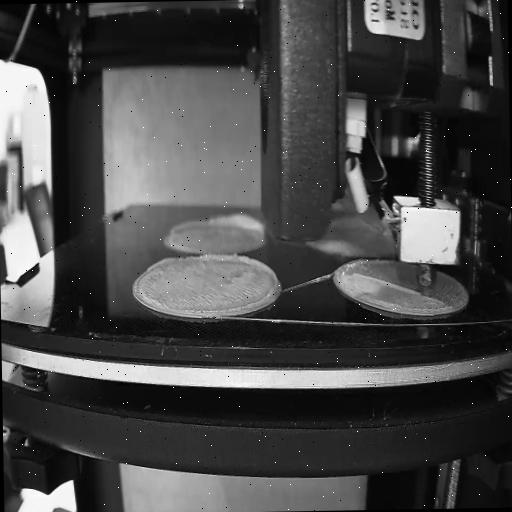over_extrusion: (196, 252, 278, 316), (352, 269, 422, 302), (209, 212, 268, 243), (171, 220, 206, 236), (146, 255, 177, 273)
